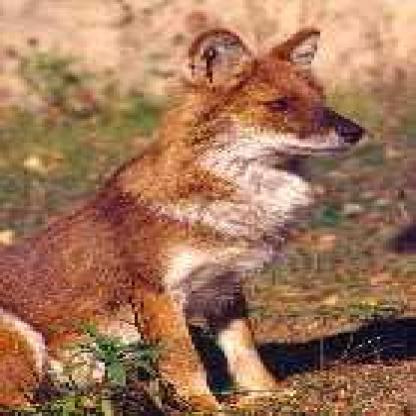dhole: (0, 16, 365, 410)
